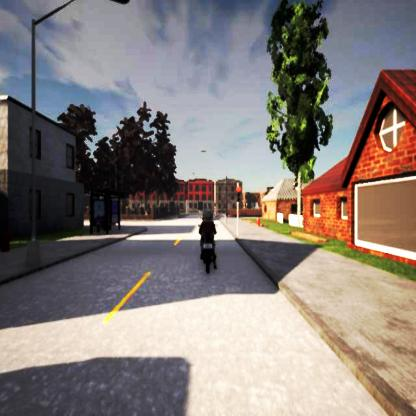motobike: (198, 211, 218, 273)
